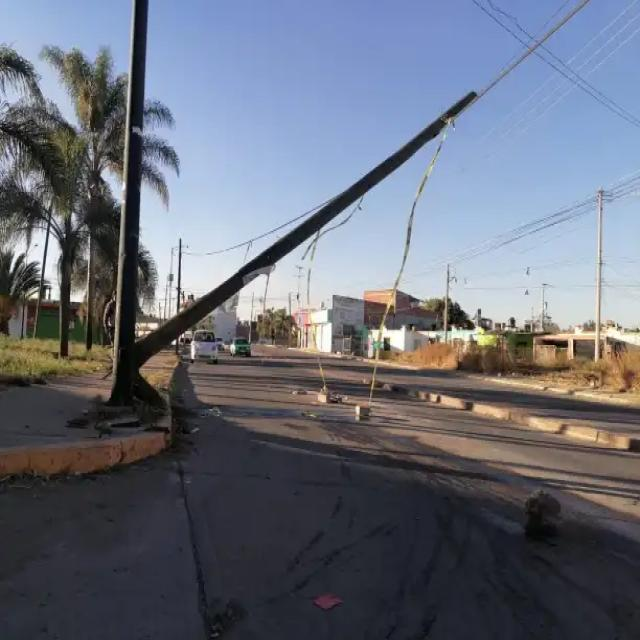Inclined Pole: (132, 86, 481, 367)
